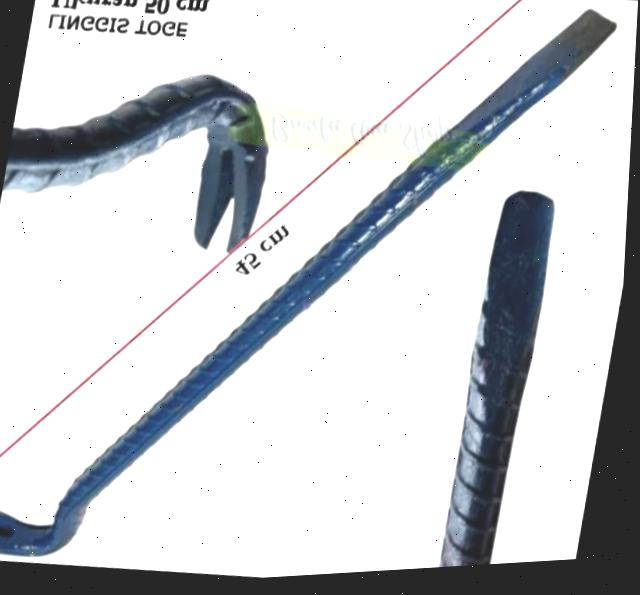crow bar: (0, 6, 621, 564)
